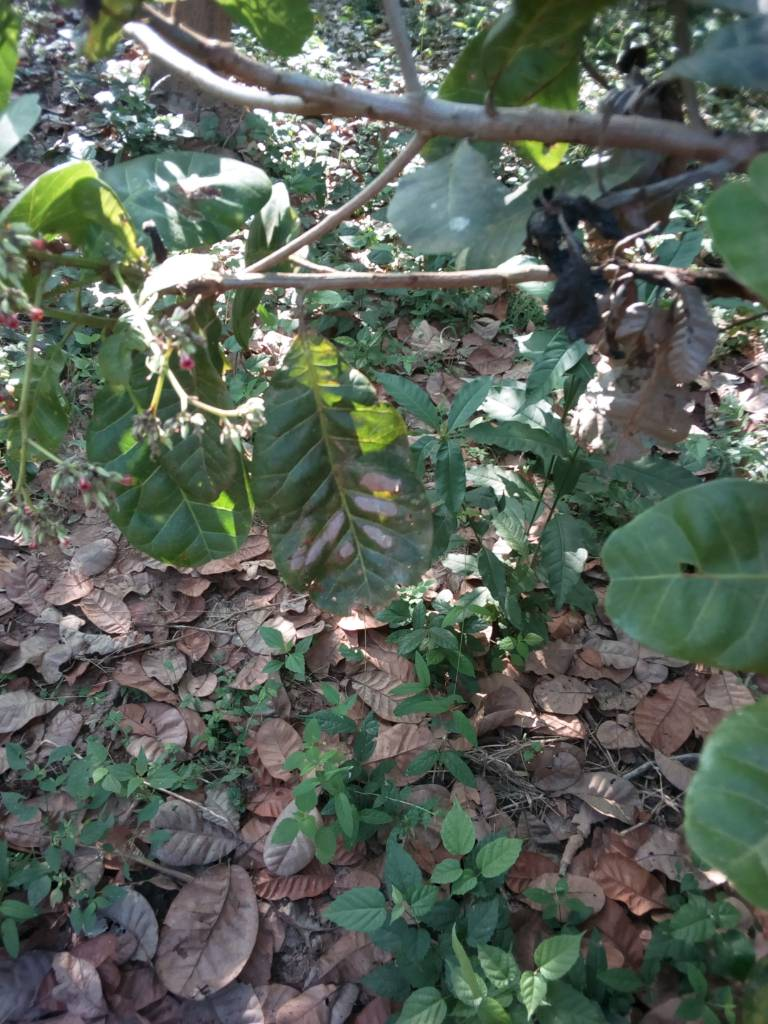Dessèchement des bourgeons: (613, 274, 718, 438), (521, 186, 601, 330)
